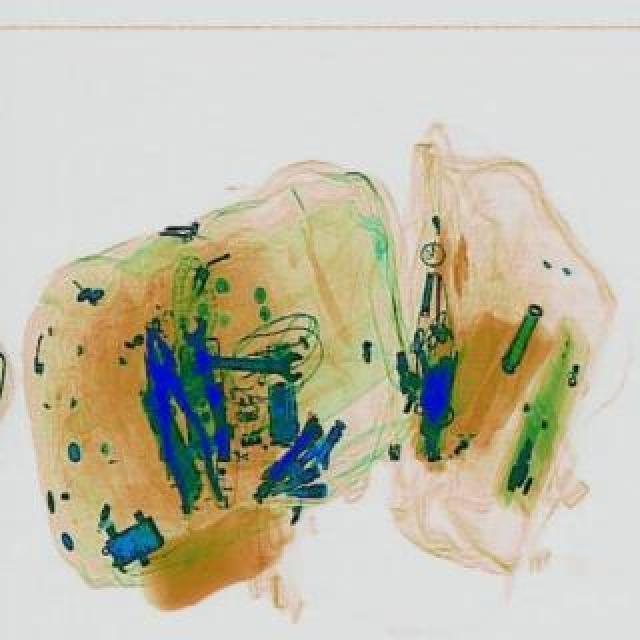scissors: (178, 312, 238, 444), (190, 342, 302, 382)
wrench: (126, 320, 226, 512)
